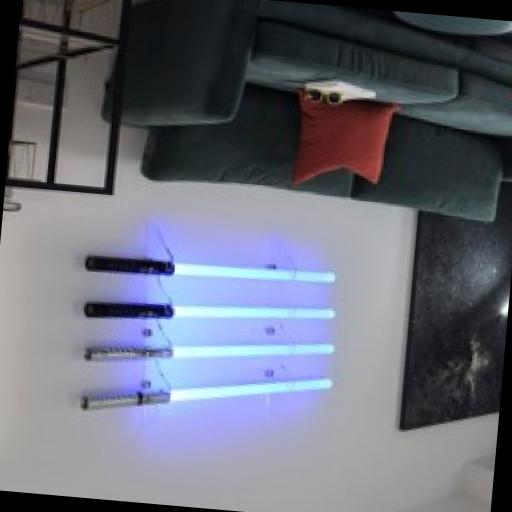lightsaber: (81, 359, 329, 432), (84, 323, 334, 380), (82, 284, 336, 339), (84, 250, 338, 292)
